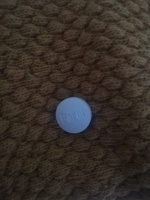Parol: (53, 95, 94, 135)
